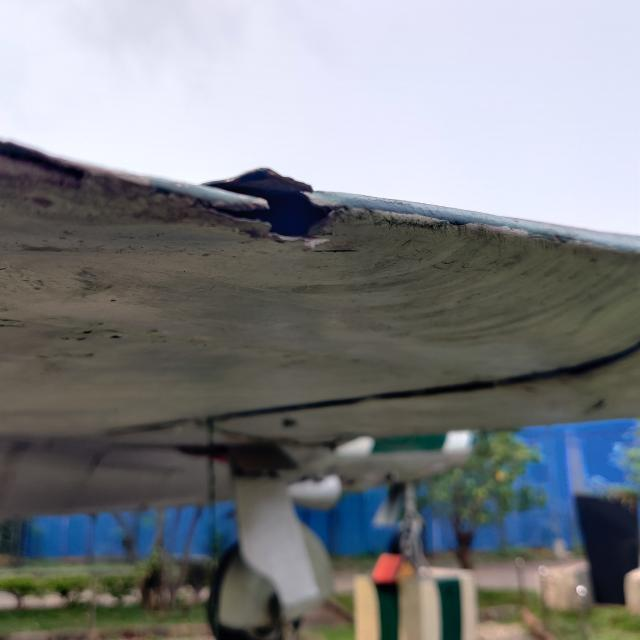crack: (190, 154, 360, 260)
